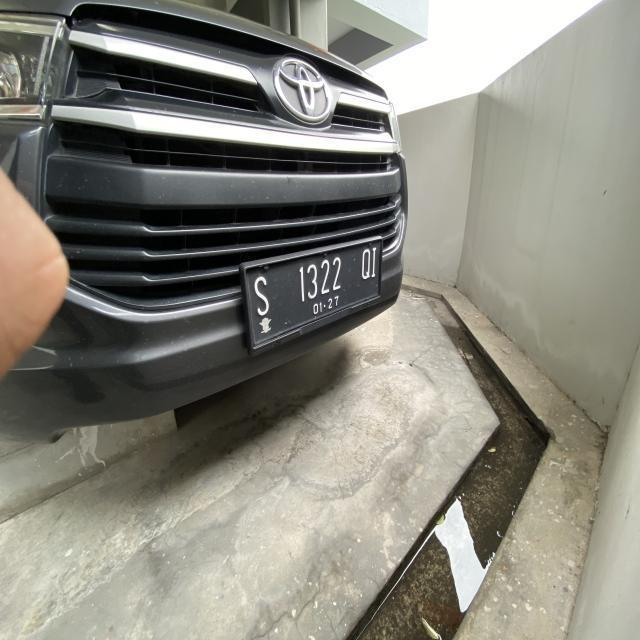1: (296, 264, 306, 302)
2: (331, 256, 344, 290), (319, 260, 331, 294)
D: (308, 264, 318, 300)
I: (371, 248, 378, 282)
Q: (362, 249, 371, 282)
S: (252, 274, 271, 316)
